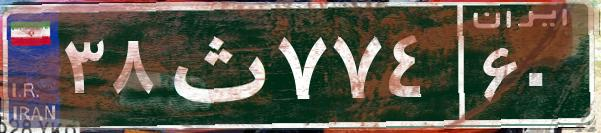0: (525, 38, 570, 115)
3: (57, 26, 110, 107)
4: (385, 28, 445, 110)
6: (475, 38, 525, 113)
7: (273, 28, 330, 110), (330, 28, 385, 110)
8: (110, 28, 158, 105)
ث: (158, 15, 273, 115)
